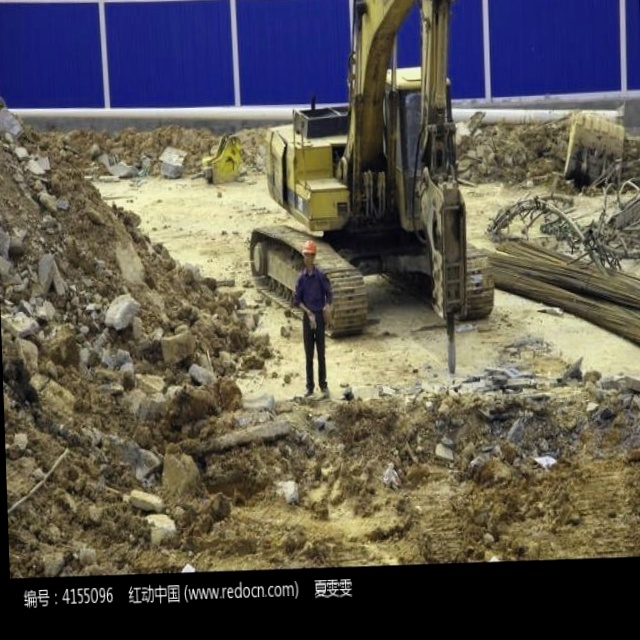Con_Casco: (302, 239, 318, 267)
Sin_Chaleco: (301, 269, 328, 323)
